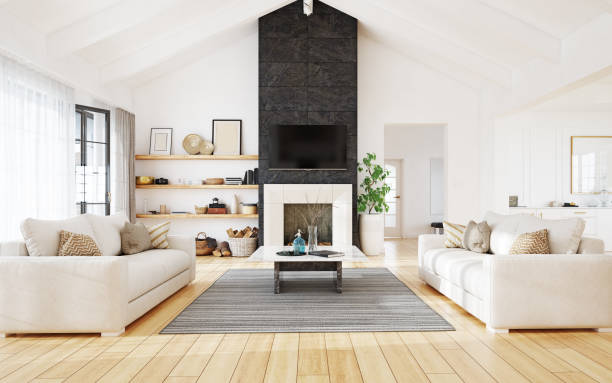TV: (267, 121, 349, 173)
large plant: (352, 147, 393, 255)
sofa: (415, 209, 612, 335), (0, 213, 198, 337)
table: (246, 242, 368, 296)
wall art: (211, 117, 244, 155), (147, 125, 173, 156)
